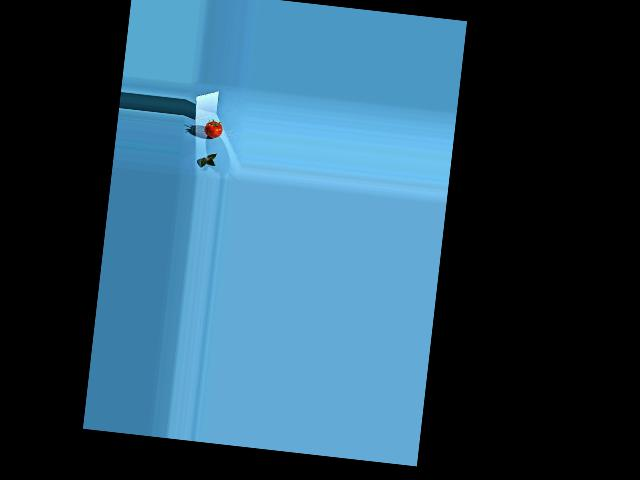tomato: (203, 119, 223, 138)
